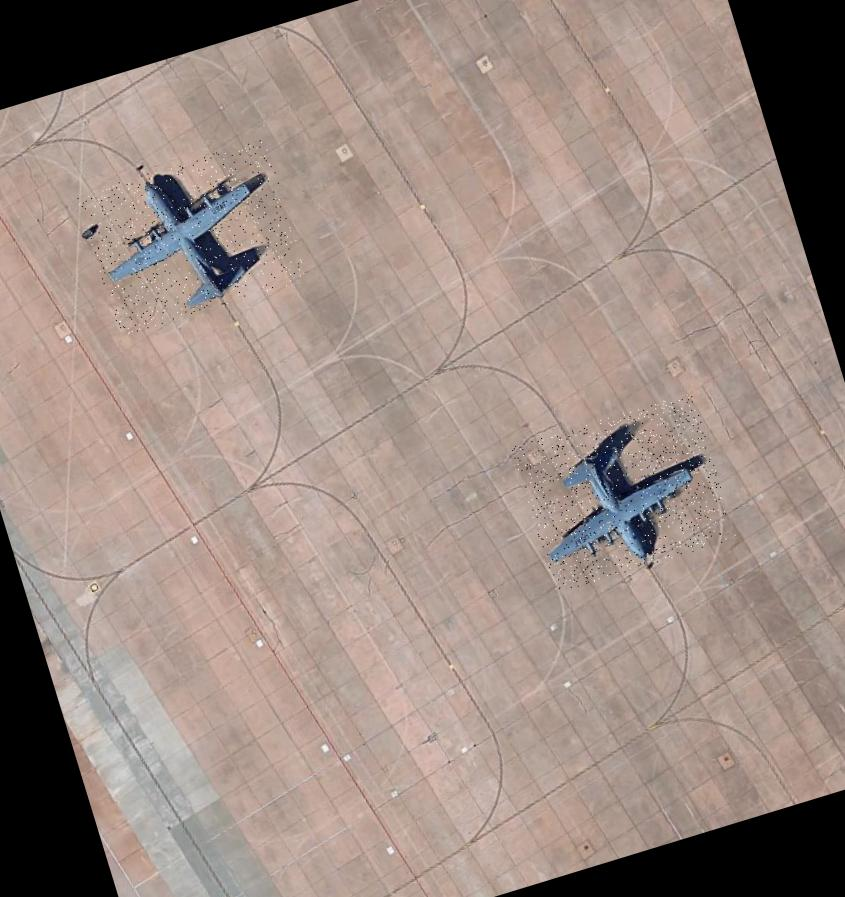A2: (76, 137, 308, 336), (510, 391, 736, 593)
